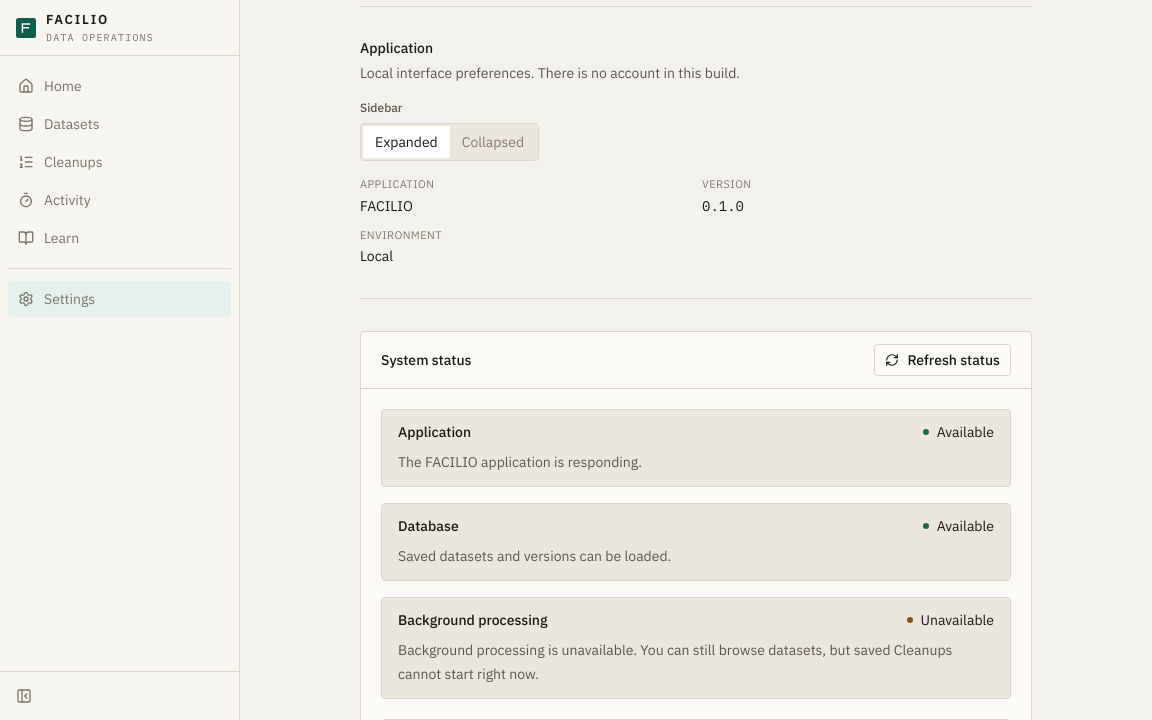
Test case: settings recovers worker availability after refresh
This screenshot has width=1152, height=720.
(page scrolled)
Check: the text "saved Cleanups cannot start right now" is shown, box [398,641,952,683]
Click the button "Refresh status".
click(943, 360)  # box [874,344,1011,376]
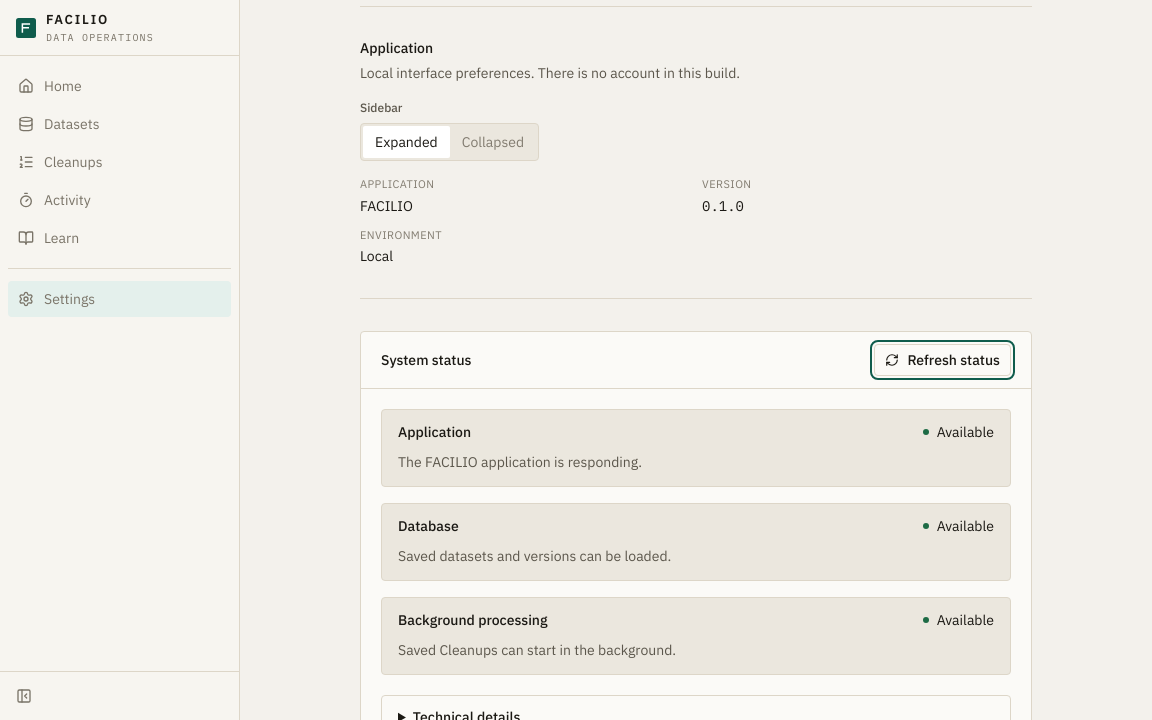
Check: the text "Saved Cleanups can start in the background." is shown, box [398,641,676,659]
